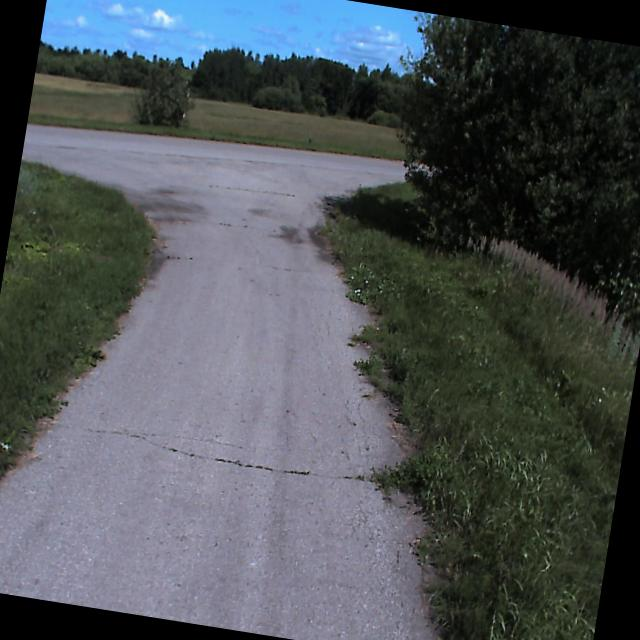road: (0, 124, 441, 640)
